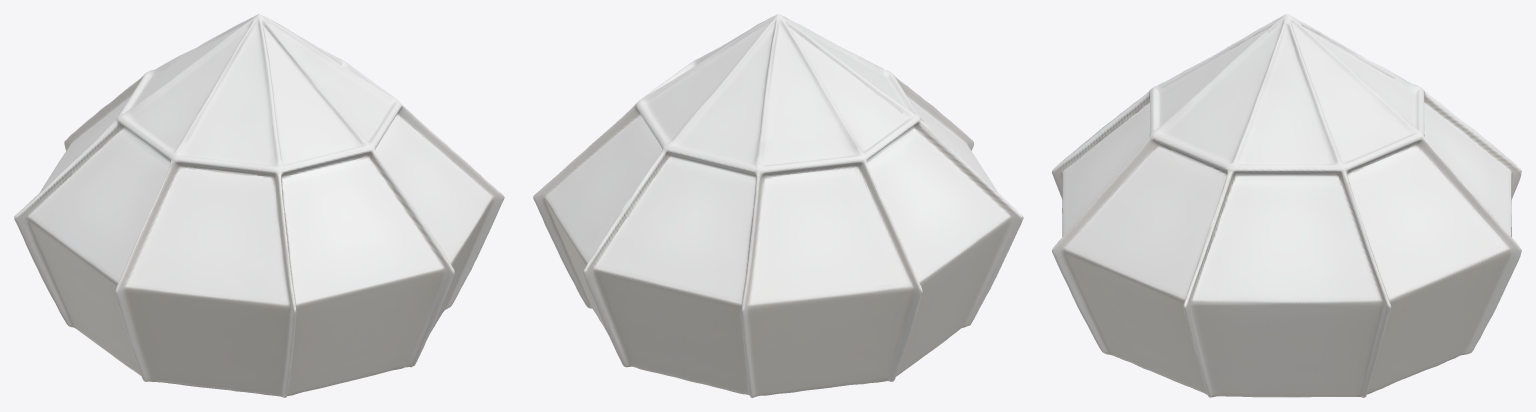
The model's file is base_basic_shaded.glb.
The picture shows the model from 3 angles, left to right: view 1: azimuth 30°, elevation 25°; view 2: azimuth 150°, elevation 25°; view 3: azimuth 270°, elevation 25°; orthographic projection.
Parts seen in each view (by area): view 1: model; view 2: model; view 3: model.
Part boxes in pixels (x1=…): model: x1=14, y1=14, x2=504, y2=397; model: x1=533, y1=14, x2=1023, y2=397; model: x1=1052, y1=14, x2=1521, y2=397.
Size of the model in its own units: 1.75 by 1.31 by 1.8.
Materials: 1 (1 with a texture image).
